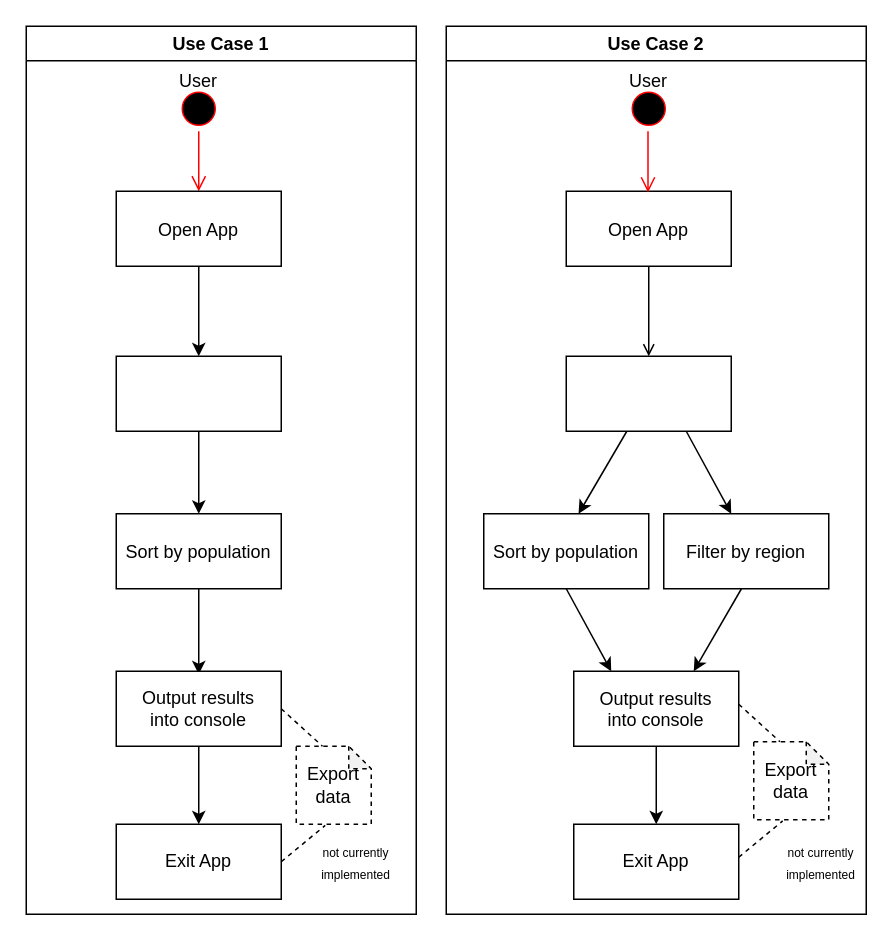
Some shapes in this 893 by 941 pixel diagram are drawn without their labels. Here are the shapes that lost their labels. From the top down, the centre of each, then its label:
[198,393]: Upload Countries database
[648,393]: Upload Cities database
